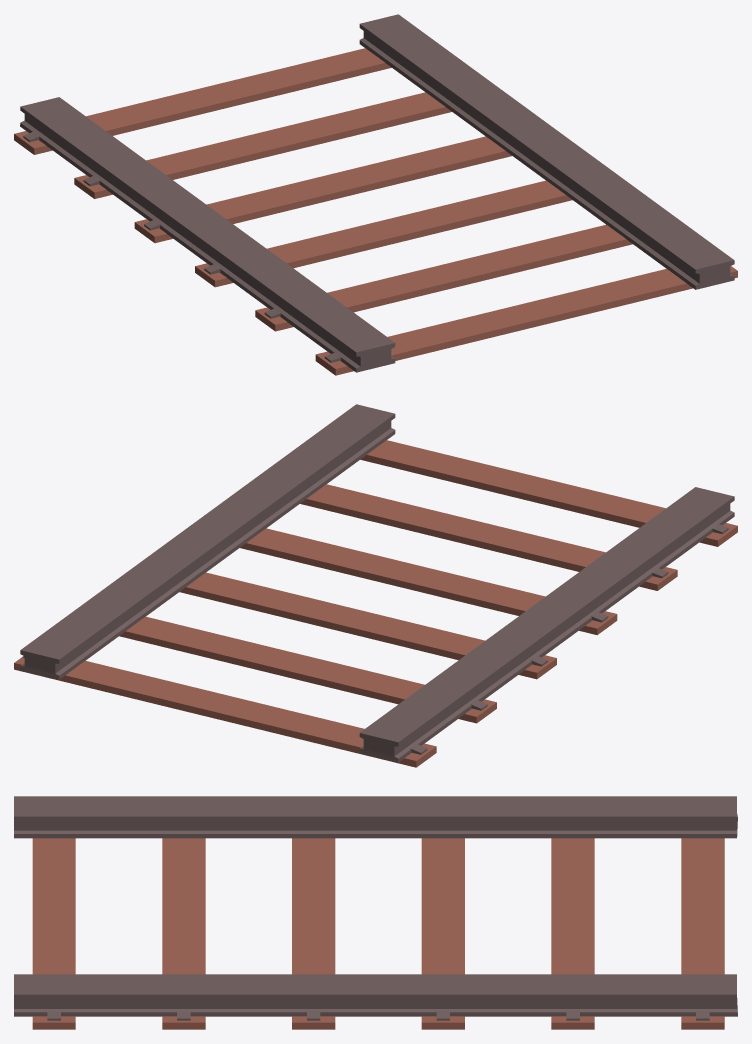
Rendered from Trilho.fbx.
3 views of the same model, one above another, from view 1: azimuth 30°, elevation 25°; view 2: azimuth 150°, elevation 25°; view 3: azimuth 270°, elevation 25° (orthographic). The views are drawn at different scales.
Visible parts, largest first — view 1: Trilho.001; view 2: Trilho.001; view 3: Trilho.001.
Part boxes in pixels (x1,y1,x2,y2): Trilho.001: [14, 14, 737, 375]; Trilho.001: [14, 404, 737, 767]; Trilho.001: [14, 796, 737, 1029].
Size of the model in its own units: 2.97 by 2.05 by 0.1294.
